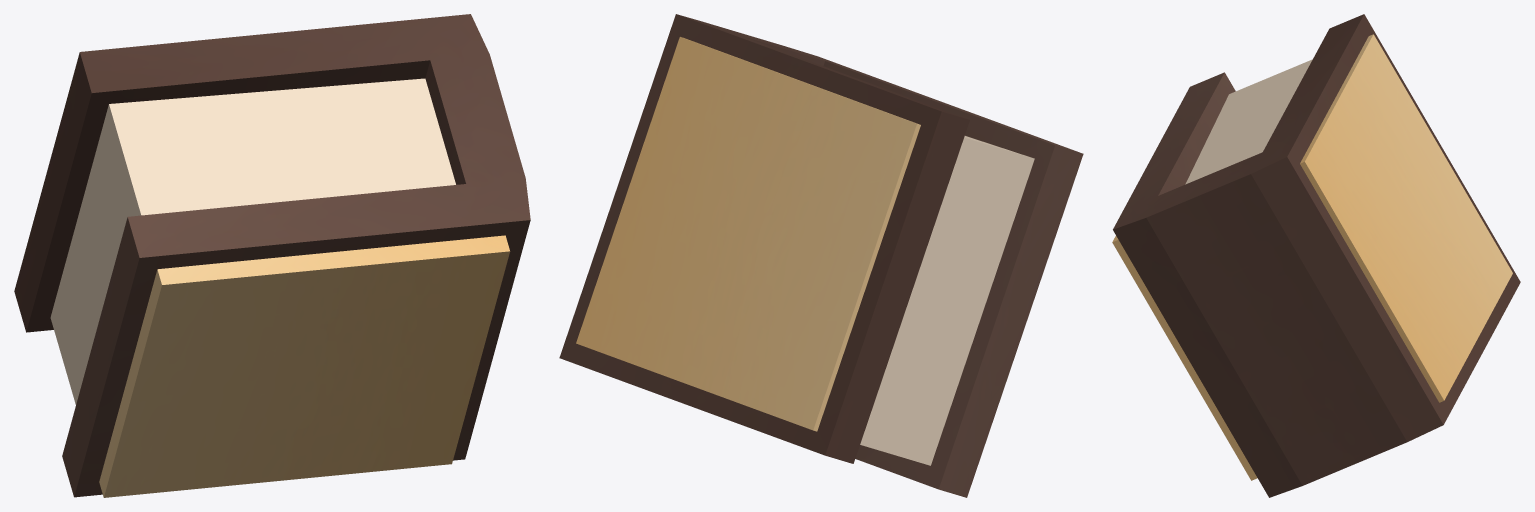
The model's file is magical_book.fbx.
3 renders of one model, left to right at view 1: azimuth 30°, elevation 25°; view 2: azimuth 150°, elevation 25°; view 3: azimuth 270°, elevation 25°, orthographic. The views are drawn at different scales.
Parts seen in each view (by area): view 1: Magic_book; view 2: Magic_book; view 3: Magic_book.
Boxes of the visible parts, x1,y1,x2,y2 form: Magic_book: (14, 14, 530, 497); Magic_book: (559, 14, 1083, 497); Magic_book: (1112, 14, 1520, 497).
Size of the model in its own units: 104 by 104 by 108.
